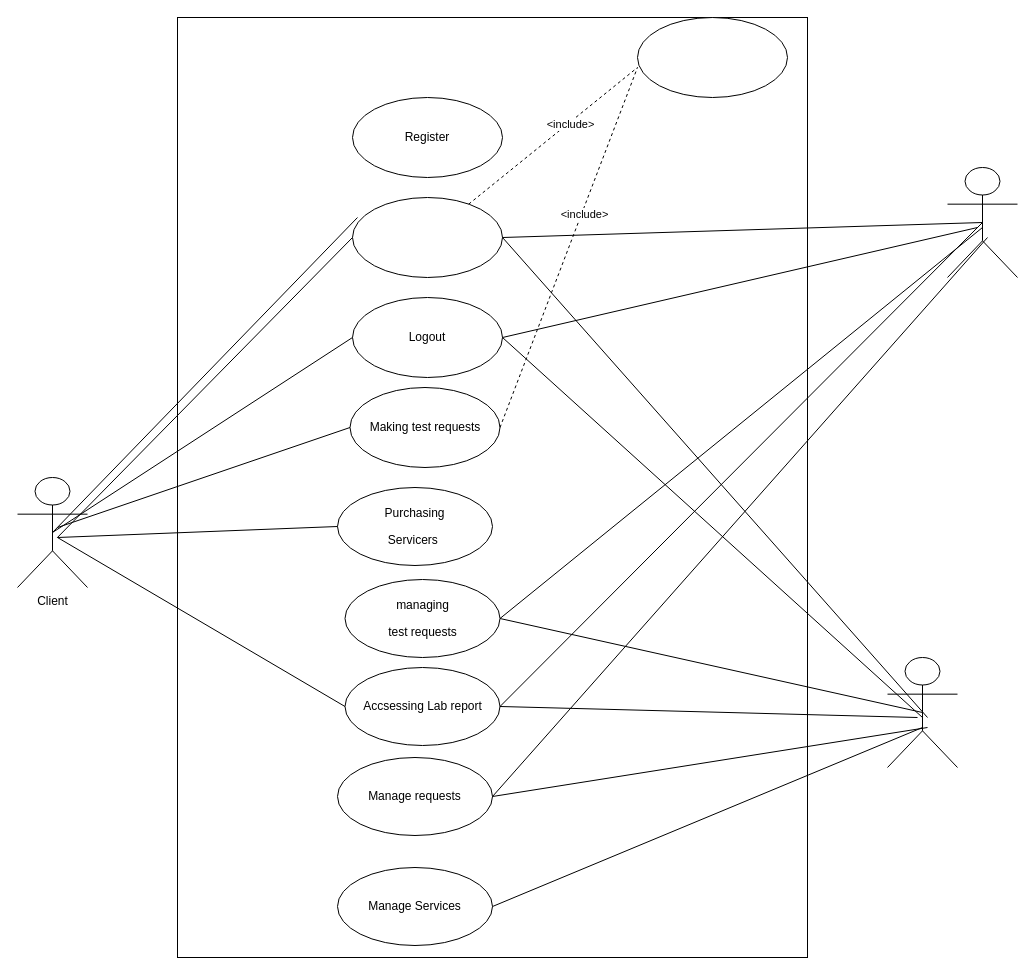
Some shapes in this 1035 by 975 pixel diagram are drawn without their labels. The shapes that lost their labels are listed below. From the top down, each one's box as (x1, y1, x2, y2) in pixels, then its label:
(636, 16, 788, 98): Loging details
(352, 196, 502, 278): Login
(946, 166, 1018, 278): Doctor
(886, 656, 958, 768): Admin
